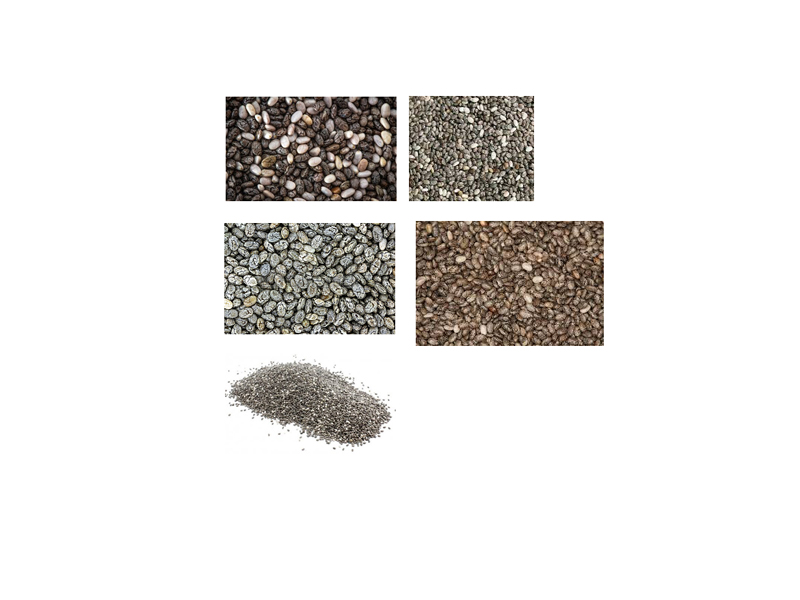chia seed: (425, 225, 597, 344), (232, 101, 391, 197), (236, 231, 388, 329), (225, 359, 378, 441), (416, 108, 526, 195)
